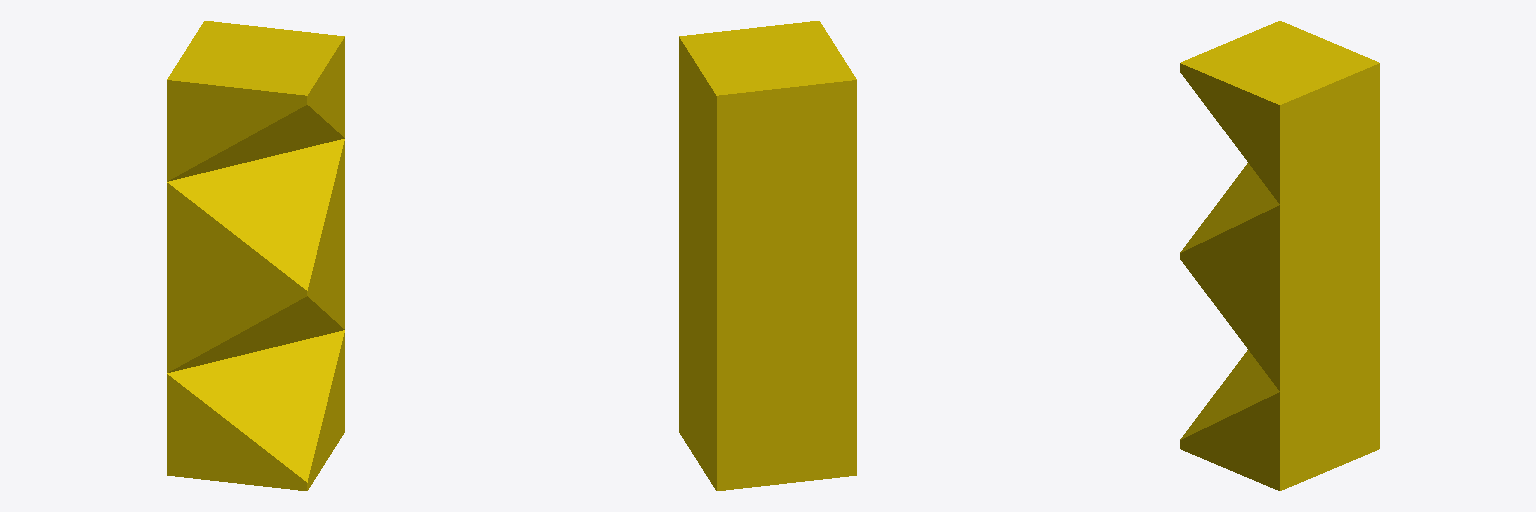
robot.urdf — obj_4:
<robot name="obj_4" version="1.0">
  <link name="link_4">
    <collision name="4-collision.001">
      <origin rpy="0.00000 0.00000 -0.78557" xyz="-0.37768 0.48206 0.38608"/>
      <geometry>
        <mesh filename="../meshes/obj/4-collision.001.obj" scale="1.00000 1.00000 1.00000"/>
      </geometry>
    </collision>
    <collision name="4-collision.002">
      <origin rpy="0.00000 0.00000 -0.78557" xyz="-0.37674 0.48966 0.22317"/>
      <geometry>
        <mesh filename="../meshes/obj/4-collision.002.obj" scale="1.00000 1.00000 1.00000"/>
      </geometry>
    </collision>
    <collision name="4-collision.003">
      <origin rpy="0.00000 0.00000 -0.78557" xyz="-0.36047 0.48437 0.06804"/>
      <geometry>
        <mesh filename="../meshes/obj/4-collision.003.obj" scale="1.00000 1.00000 1.00000"/>
      </geometry>
    </collision>
    <inertial>
      <inertia ixx="0.00019" ixy="-0.00001" ixz="0.00000" iyy="0.00019" iyz="0.00000" izz="0.00005"/>
      <origin rpy="0.00000 0.00000 0.00000" xyz="-0.36805 0.49195 0.22529"/>
      <mass value="0.01000"/>
    </inertial>
    <visual name="4">
      <material name="turnarrow_yellow"/>
      <origin rpy="2.35636 1.57080 0.00000" xyz="-0.36806 0.44230 0.22528"/>
      <geometry>
        <mesh filename="../meshes/obj/6 part puzzle cube.003.obj" scale="0.00500 0.00500 0.00500"/>
      </geometry>
    </visual>
  </link>
  <material name="turnarrow_yellow">
    <color rgba="0.87059 0.77255 0.05098 1.00000"/>
  </material>
</robot>

--- What the picture shows (computed from the rendered views, not written in the file) ---
Views: 3 orthographic renders of the robot side by side, from view 1: azimuth 30°, elevation 25°; view 2: azimuth 150°, elevation 25°; view 3: azimuth 270°, elevation 25°.
Robot: obj_4 — 1 links, 0 joints (none); root link link_4; default pose: every joint at zero.
Visible links, largest first — view 1: link_4; view 2: link_4; view 3: link_4.
Link boxes in pixels (left/top/right/bottom): link_4: left=167, top=21, right=344, bottom=490; link_4: left=679, top=21, right=856, bottom=490; link_4: left=1180, top=21, right=1379, bottom=490.
Bounding box of the posed robot: 0.2121 × 0.2121 × 0.45 m (x, y, z).
1 mesh visuals loaded from 1 distinct referenced files (1 OBJ).